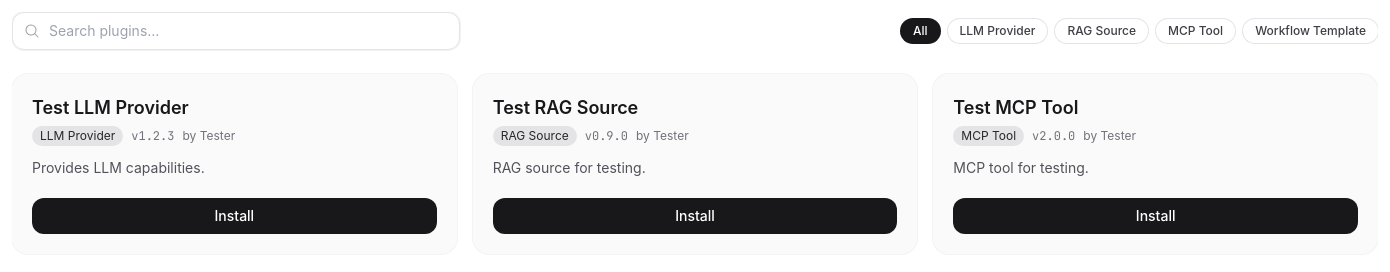
Test: MarketplacePanel › rag-source filter chip hides non-RAG cards
Click the button with test id "filter-chip-rag-source": click(1102, 31) [1055, 19, 1148, 43]
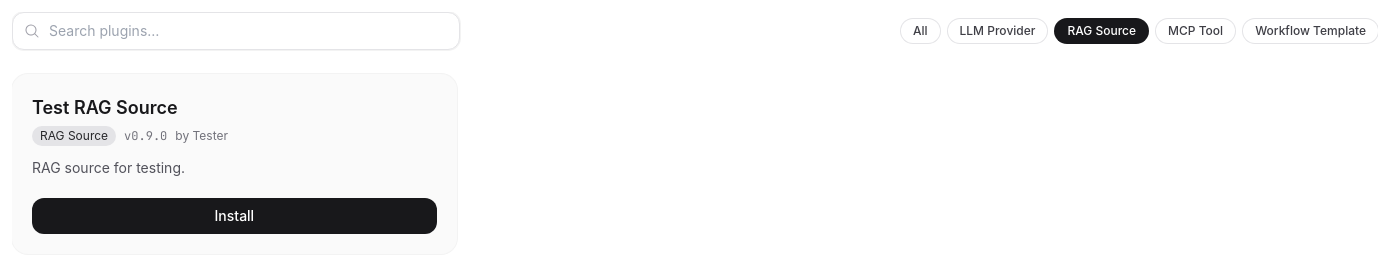
Expected: the element with test id "plugin-card-plugin-rag" is shown, [12, 74, 457, 254]
Expected: the element with test id "plugin-card-plugin-llm" is gone
Expected: the element with test id "plugin-card-plugin-mcp" is gone
